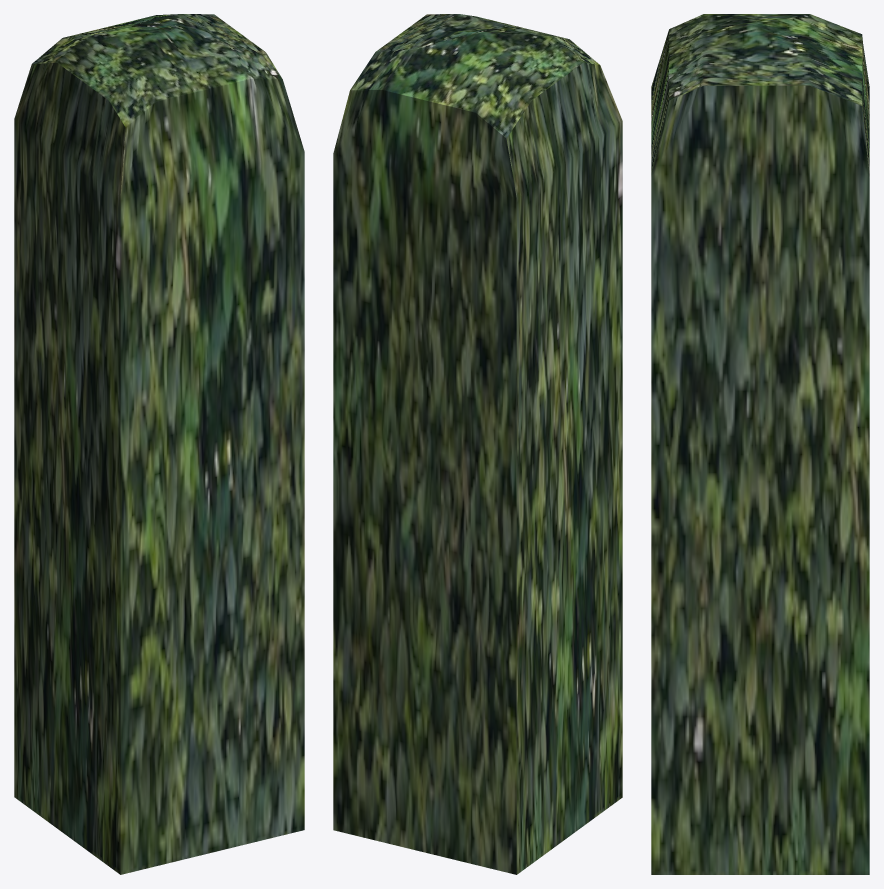
Rendered from HedgePillar.fbx.
3 renders of one model, left to right at view 1: azimuth 30°, elevation 25°; view 2: azimuth 150°, elevation 25°; view 3: azimuth 270°, elevation 25°, orthographic. The views are drawn at different scales.
Visible parts, largest first — view 1: pCube1; view 2: pCube1; view 3: pCube1.
Boxes of the visible parts, x1=… form: pCube1: x1=14, y1=14, x2=304, y2=874; pCube1: x1=333, y1=14, x2=622, y2=874; pCube1: x1=651, y1=14, x2=869, y2=874.
Bounding box in the file's own units: 1 × 4.06 × 1.
1 material, 1 textured.
